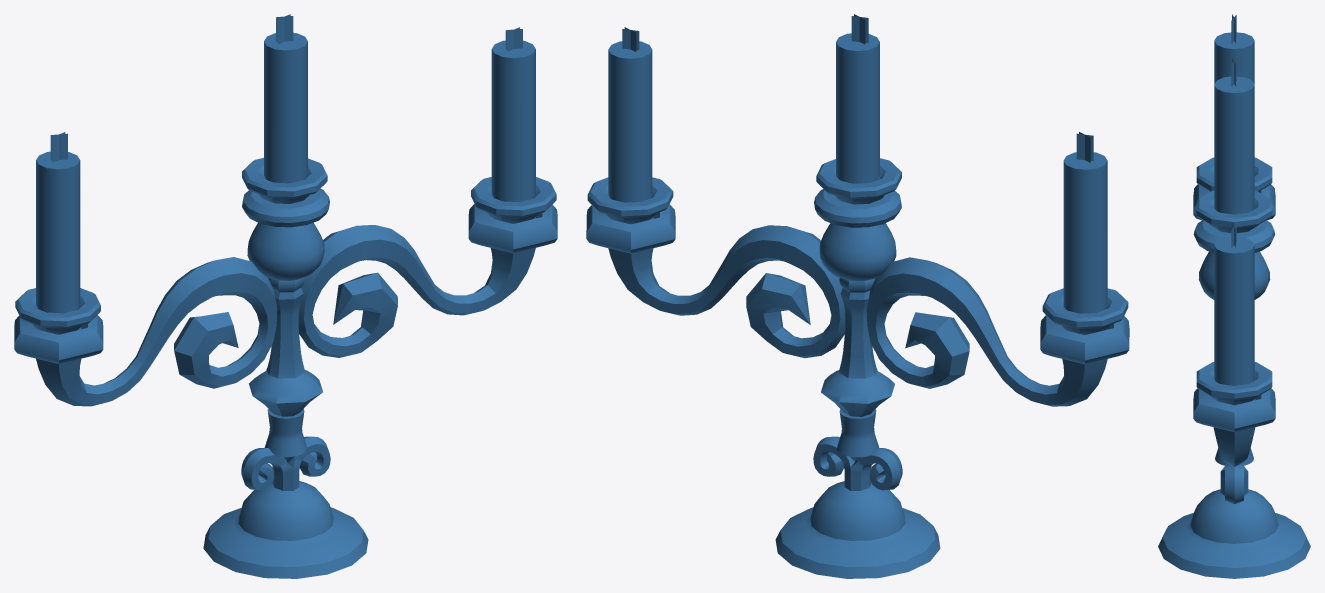
Rendered from Mesh_CandelabroMesaGrande_v001.fbx.
3 renders of one model, left to right at view 1: azimuth 30°, elevation 25°; view 2: azimuth 150°, elevation 25°; view 3: azimuth 270°, elevation 25°, orthographic. The views are drawn at different scales.
Visible parts, largest first — view 1: Mesh_CandelabroMesaGrande_v001; view 2: Mesh_CandelabroMesaGrande_v001; view 3: Mesh_CandelabroMesaGrande_v001.
Boxes of the visible parts, left/top/right/bottom form: Mesh_CandelabroMesaGrande_v001: left=14, top=14, right=557, bottom=578; Mesh_CandelabroMesaGrande_v001: left=586, top=14, right=1129, bottom=578; Mesh_CandelabroMesaGrande_v001: left=1158, top=14, right=1310, bottom=578.
Bounding box in the file's own units: 1.06 × 0.9808 × 0.2802.
